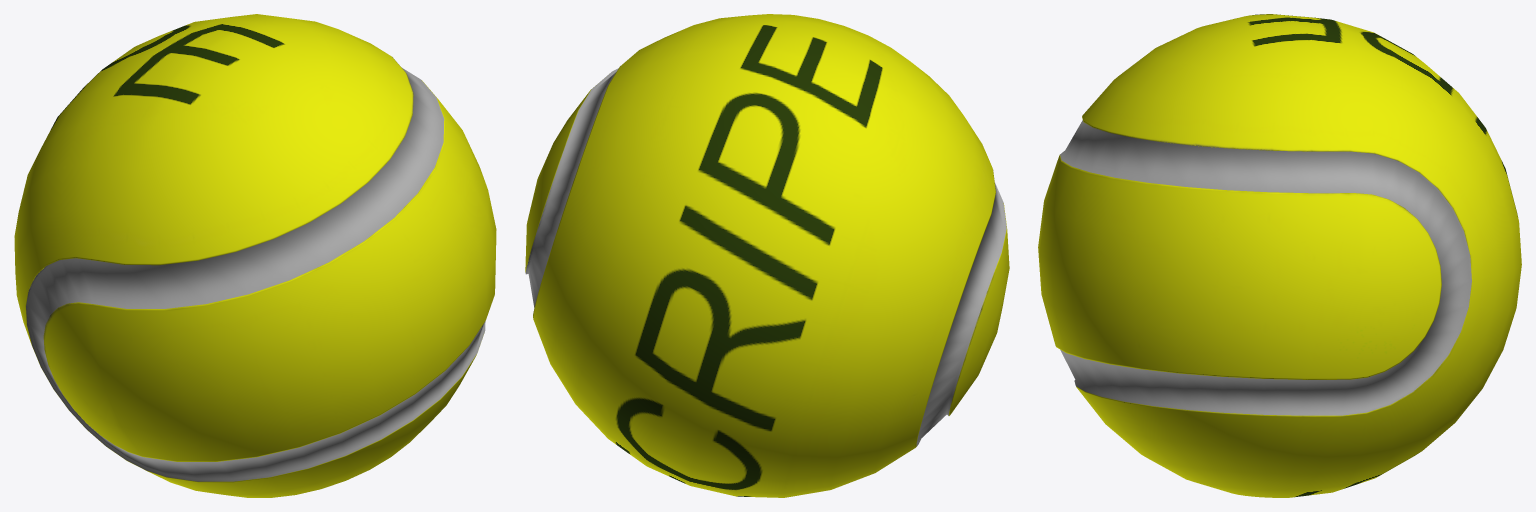
The model's file is tennis_ball.fbx.
The picture shows the model from 3 angles, left to right: view 1: azimuth 30°, elevation 25°; view 2: azimuth 150°, elevation 25°; view 3: azimuth 270°, elevation 25°; orthographic projection.
Parts seen in each view (by area): view 1: Sphere.001; view 2: Sphere.001; view 3: Sphere.001.
Boxes of the visible parts, x1,y1,x2,y2 form: Sphere.001: [14, 14, 496, 497]; Sphere.001: [525, 14, 1009, 497]; Sphere.001: [1038, 14, 1521, 497].
Size of the model in its own units: 1.99 by 1.99 by 2.
